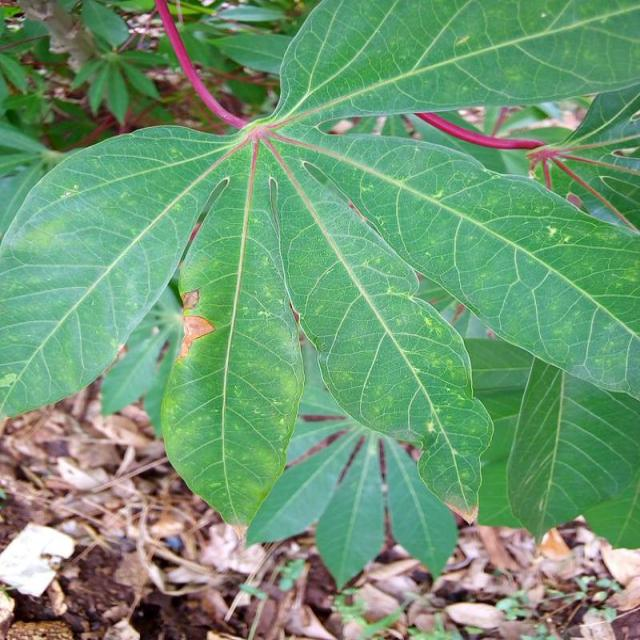cassava leaf: (1, 0, 638, 571)
